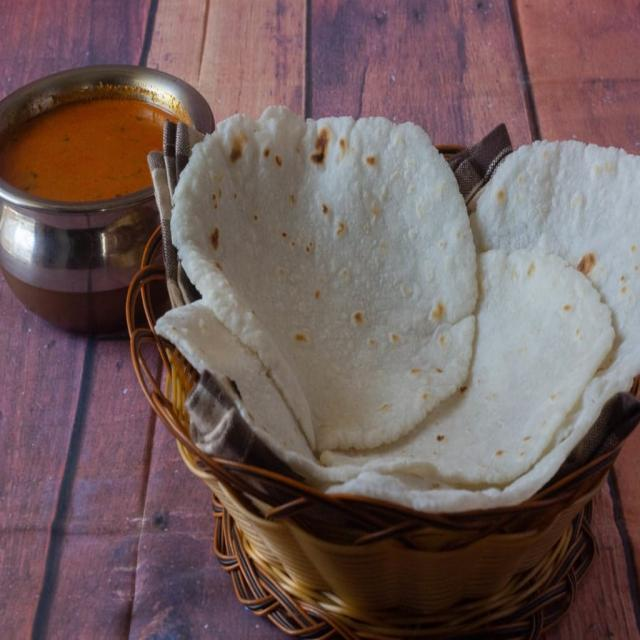RICE BHAKRI: (154, 102, 639, 511)
